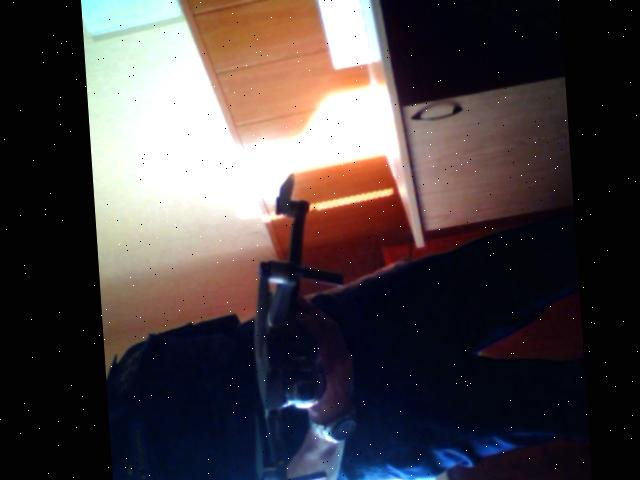drone: (226, 172, 337, 480)
